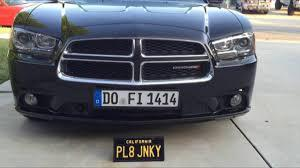1: (145, 93, 154, 105), (161, 93, 169, 105)
4: (154, 92, 162, 105), (169, 93, 177, 105)
D: (102, 91, 111, 104)
F: (128, 92, 136, 104)
I: (137, 92, 144, 105)
O: (110, 92, 119, 105)
